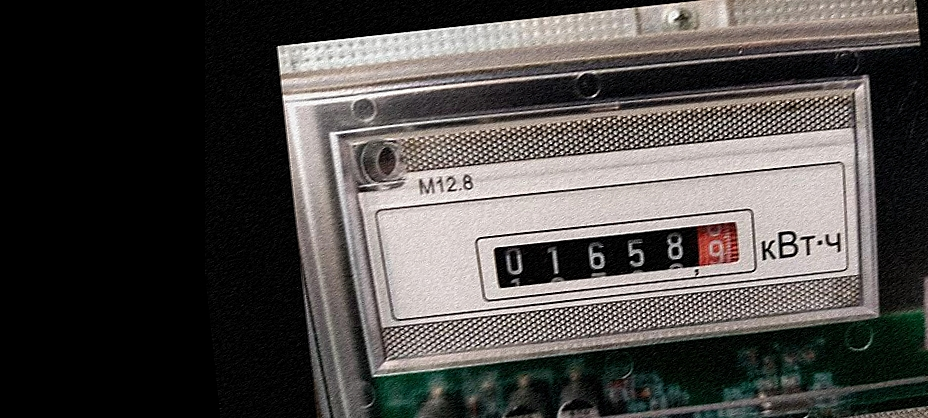0: (502, 244, 527, 278)
1: (546, 244, 563, 276)
5: (626, 235, 648, 269)
6: (586, 239, 609, 272)
8: (665, 229, 687, 263)
9: (706, 237, 726, 265)
screen: (467, 198, 765, 308)
